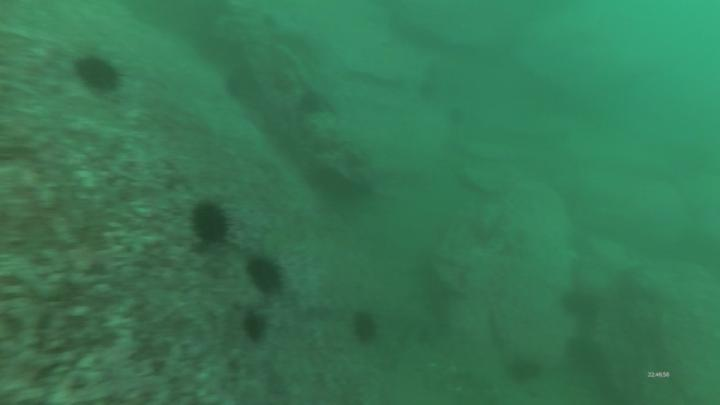echinus: (189, 197, 234, 251), (73, 53, 122, 97), (245, 254, 286, 297), (559, 291, 599, 324), (349, 309, 383, 347), (241, 310, 272, 348), (509, 355, 543, 388), (222, 69, 255, 98), (294, 91, 325, 117), (272, 73, 299, 96)
